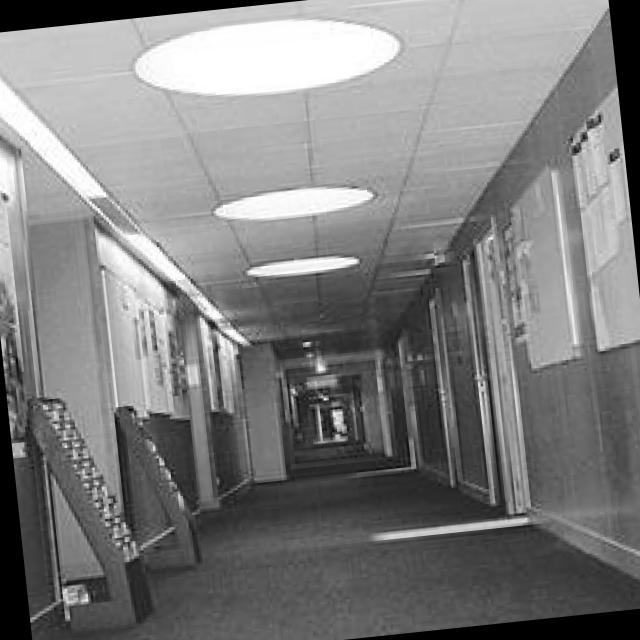floor -X: (39, 435, 640, 640)
light fixture: (135, 15, 405, 96), (215, 184, 377, 218), (247, 251, 361, 274)
wall clock: (352, 6, 640, 578)
